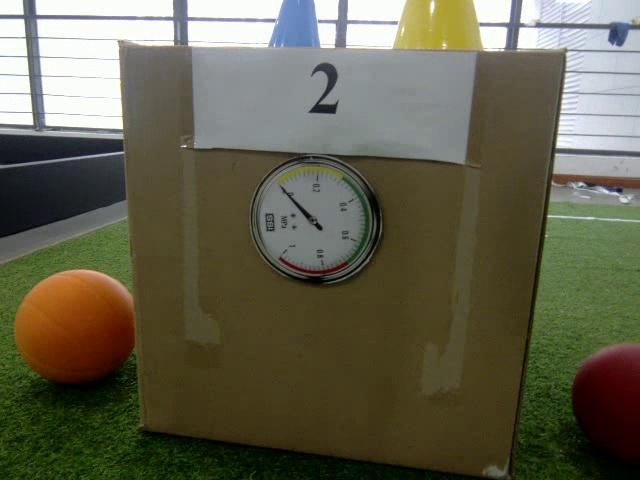2: (308, 60, 340, 120)
Dashboard: (248, 154, 384, 286)
blue_barrel: (268, 0, 323, 50)
orange_ball: (15, 270, 135, 385)
red_ball: (572, 340, 640, 460)
ssi: (265, 210, 276, 234)
yellow_barrel: (390, 0, 489, 52)
